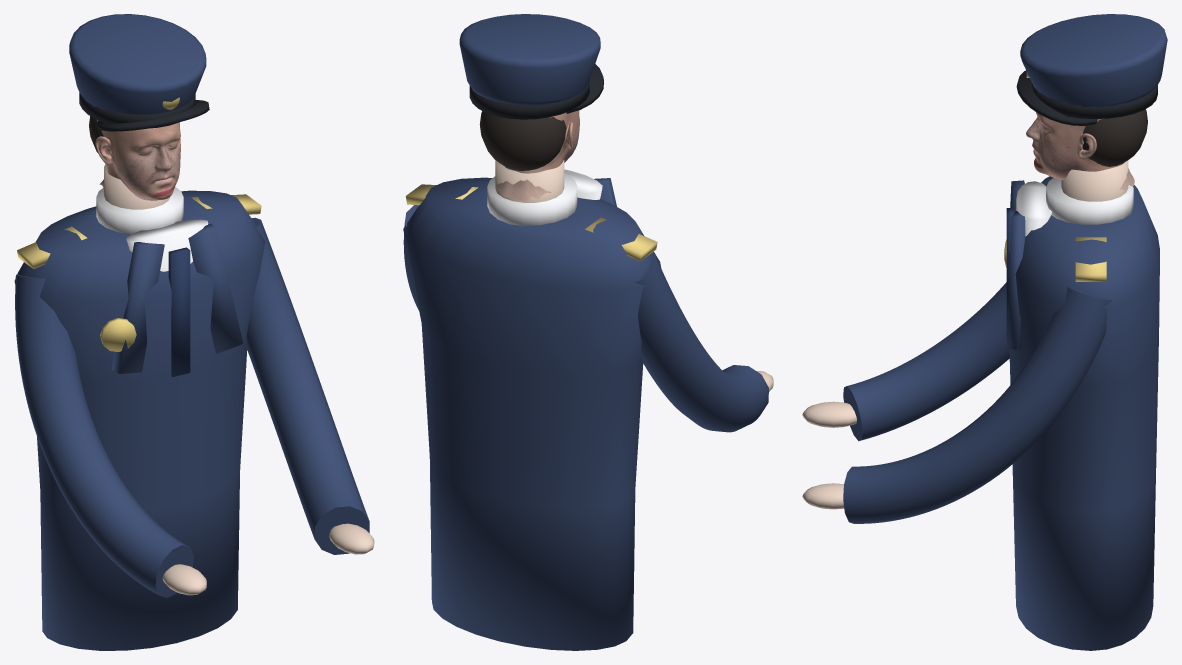
The model's file is officer.glb.
3 views of the same model, side by side, from view 1: azimuth 30°, elevation 25°; view 2: azimuth 150°, elevation 25°; view 3: azimuth 270°, elevation 25° (orthographic). The views are drawn at different scales.
Visible parts, largest first — view 1: Torso, Arm_-1, Arm_1, Cone.001, LeePerrySmith, Cube.001, Cube.003, Cube, Cylinder.001, Cone, Cylinder.002, Cylinder (+5 smaller); view 2: Torso, Cone.001, Arm_-1, Sphere, Cylinder.001, LeePerrySmith, Cylinder.002, Cylinder, Cube.002, Cone, Cylinder.003; view 3: Torso, Arm_1, Cone.001, Arm_-1, LeePerrySmith, Sphere, Cylinder.001, Cylinder, Cube.003, Cylinder.002, Cone, Sphere.001 (+3 smaller).
Part boxes in pixels (left/top/right/bottom): Torso: left=14, top=190, right=265, bottom=650; Arm_-1: left=15, top=274, right=193, bottom=597; Arm_1: left=246, top=217, right=369, bottom=554; Cone.001: left=69, top=14, right=206, bottom=114; LeePerrySmith: left=95, top=120, right=180, bottom=200; Cube.001: left=111, top=242, right=164, bottom=373; Cube.003: left=188, top=223, right=243, bottom=353; Cube: left=168, top=247, right=190, bottom=376; Cylinder.001: left=96, top=187, right=183, bottom=234; Cone: left=126, top=219, right=208, bottom=271; Cylinder.002: left=79, top=93, right=195, bottom=128; Cylinder: left=104, top=164, right=170, bottom=209; Torso: left=403, top=177, right=661, bottom=650; Cone.001: left=459, top=14, right=600, bottom=105; Arm_-1: left=635, top=254, right=768, bottom=432; Sphere: left=479, top=111, right=566, bottom=170; Cylinder.001: left=487, top=173, right=577, bottom=225; LeePerrySmith: left=496, top=110, right=579, bottom=200; Cylinder.002: left=469, top=81, right=589, bottom=119; Cylinder: left=495, top=160, right=564, bottom=202; Cube.002: left=585, top=217, right=657, bottom=261; Cone: left=564, top=169, right=602, bottom=199; Cylinder.003: left=566, top=64, right=603, bottom=113; Torso: left=1008, top=176, right=1159, bottom=650; Arm_1: left=843, top=287, right=1111, bottom=523; Cone.001: left=1020, top=14, right=1167, bottom=107; Arm_-1: left=843, top=282, right=1009, bottom=441; LeePerrySmith: left=1026, top=112, right=1134, bottom=190; Sphere: left=1082, top=109, right=1147, bottom=166; Cylinder.001: left=1046, top=178, right=1133, bottom=224; Cylinder: left=1061, top=160, right=1128, bottom=201; Cube.003: left=1006, top=211, right=1025, bottom=349; Cylinder.002: left=1032, top=83, right=1157, bottom=118; Cone: left=1016, top=181, right=1051, bottom=236; Sphere.001: left=802, top=401, right=856, bottom=427.
Bounding box in the file's own units: 0.4876 × 0.9812 × 0.5677.
8 materials, 1 textured.
